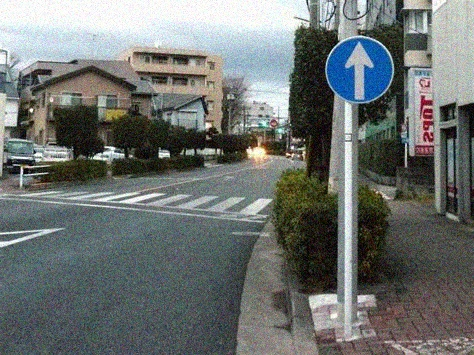Direction_sign: (316, 31, 396, 102)
